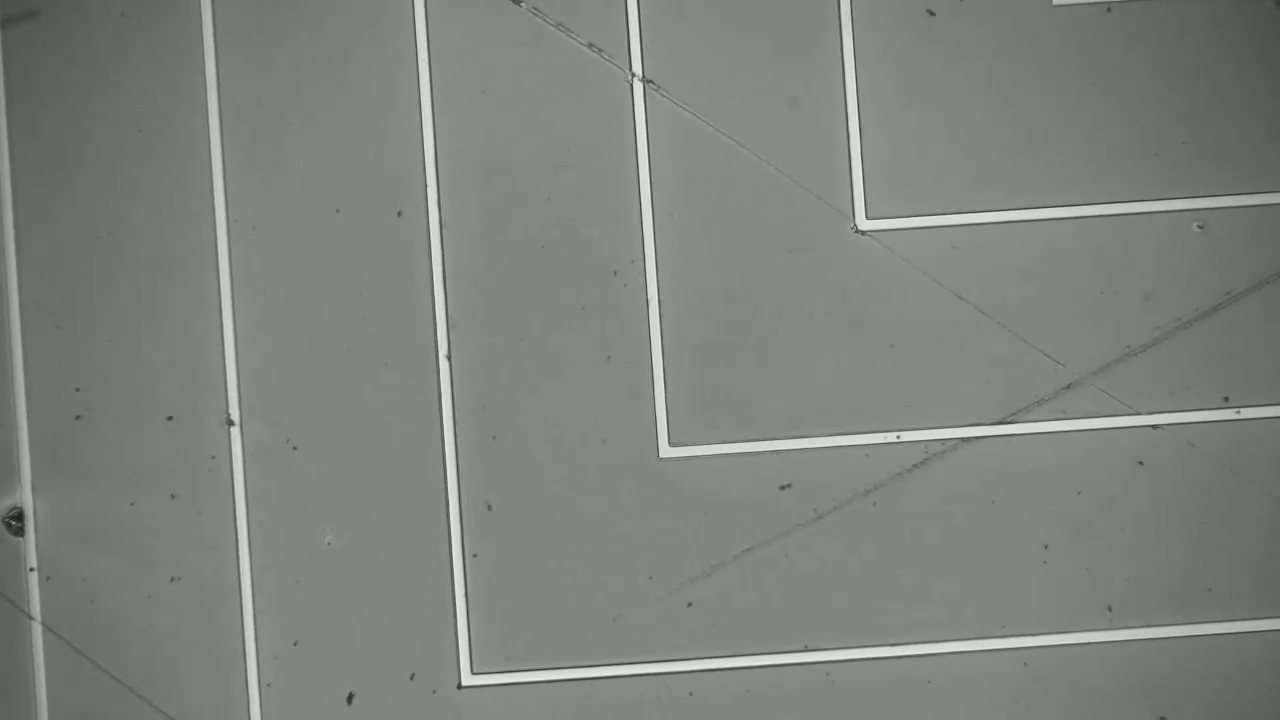scratch: (500, 1, 1269, 507), (658, 262, 1280, 597), (4, 595, 187, 720)
stains_enbedded: (1, 488, 47, 548)
